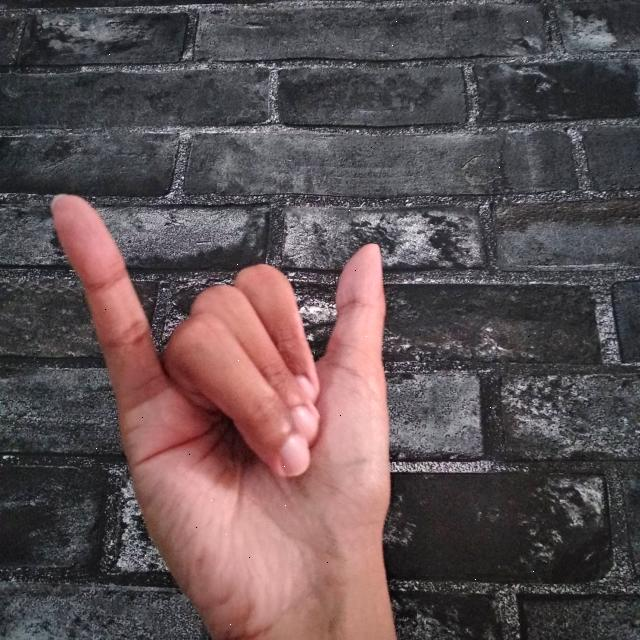Y: (45, 179, 416, 640)
